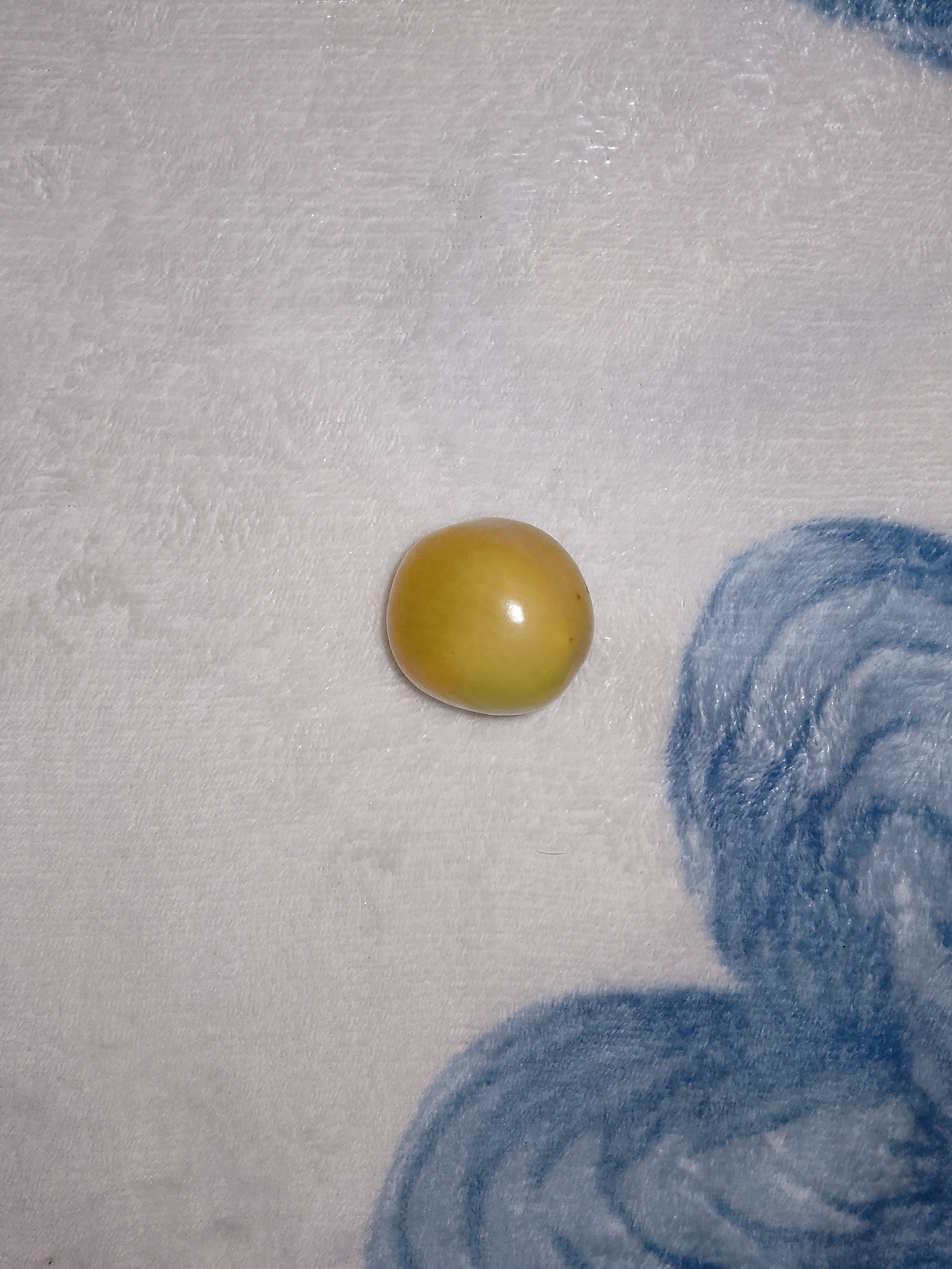Unripe: (306, 475, 654, 768)
